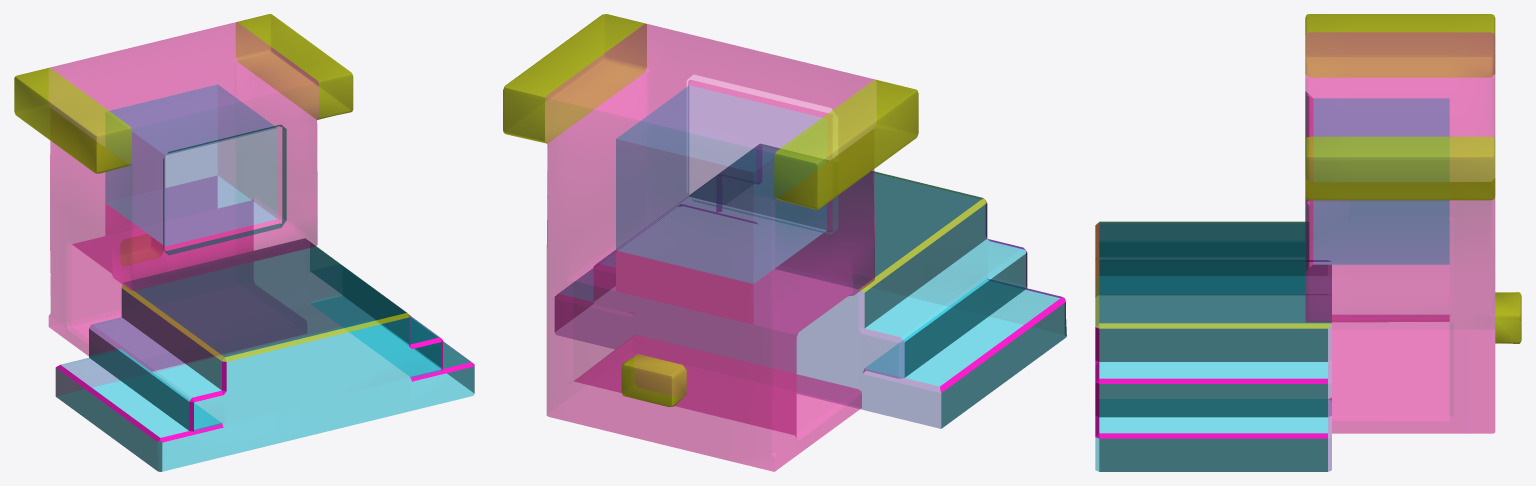
The model's file is house tran.FBX.
The picture shows the model from 3 angles, left to right: view 1: azimuth 30°, elevation 25°; view 2: azimuth 150°, elevation 25°; view 3: azimuth 270°, elevation 25°; orthographic projection. The views are drawn at different scales.
Parts seen in each view (by area): view 1: Box002; view 2: Box002; view 3: Box002.
Boxes of the visible parts, x1=… form: Box002: x1=14, y1=14, x2=474, y2=471; Box002: x1=503, y1=14, x2=1066, y2=471; Box002: x1=1095, y1=14, x2=1521, y2=471.
Size of the model in its own units: 36.48 by 28.78 by 37.22.
